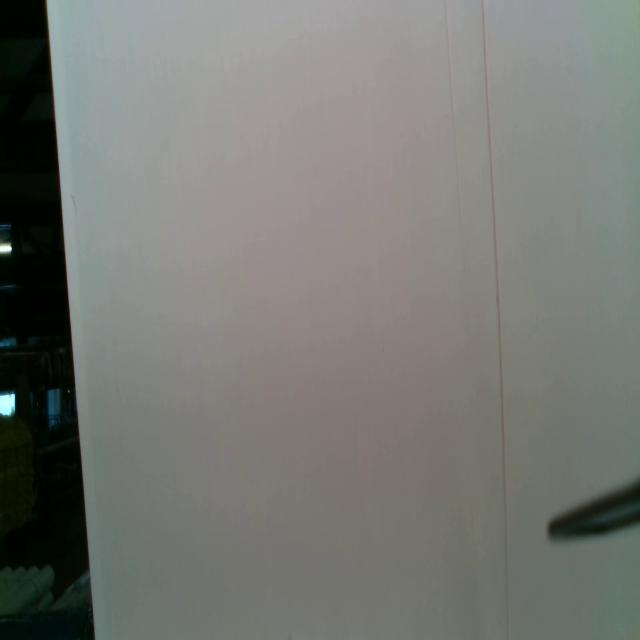crease: (480, 0, 512, 640), (445, 0, 465, 255)
